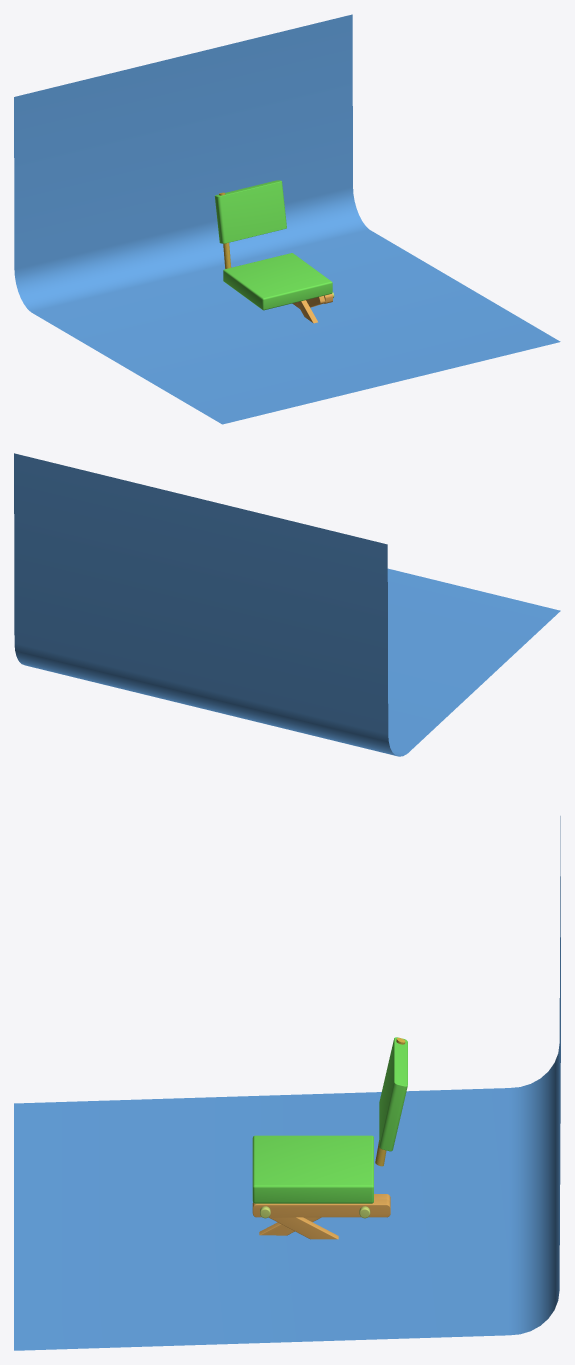
The model's file is chair1.glb.
3 views of the same model, one above another, from view 1: azimuth 30°, elevation 25°; view 2: azimuth 150°, elevation 25°; view 3: azimuth 270°, elevation 25° (orthographic). The views are drawn at different scales.
Visible parts, largest first — view 1: 立方体.005, Cube, 立方体.004; view 2: 立方体.005; view 3: 立方体.005, Cube, 立方体.004, 立方体, 立方体.001.
Part boxes in pixels (bbox=[...]): 立方体.005: bbox=[14, 14, 560, 424]; Cube: bbox=[223, 253, 332, 310]; 立方体.004: bbox=[214, 180, 286, 243]; 立方体.005: bbox=[14, 453, 560, 756]; 立方体.005: bbox=[14, 816, 560, 1350]; Cube: bbox=[252, 1135, 373, 1203]; 立方体.004: bbox=[379, 1037, 407, 1151]; 立方体: bbox=[252, 1199, 390, 1217]; 立方体.001: bbox=[269, 1217, 338, 1239].
Bounding box in the file's own units: 10.39 × 5.72 × 9.02.
